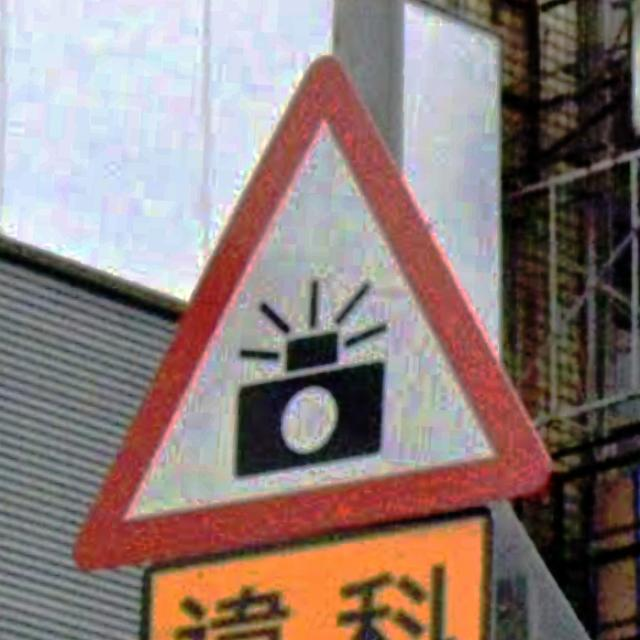speedcamera: (74, 57, 555, 570)
